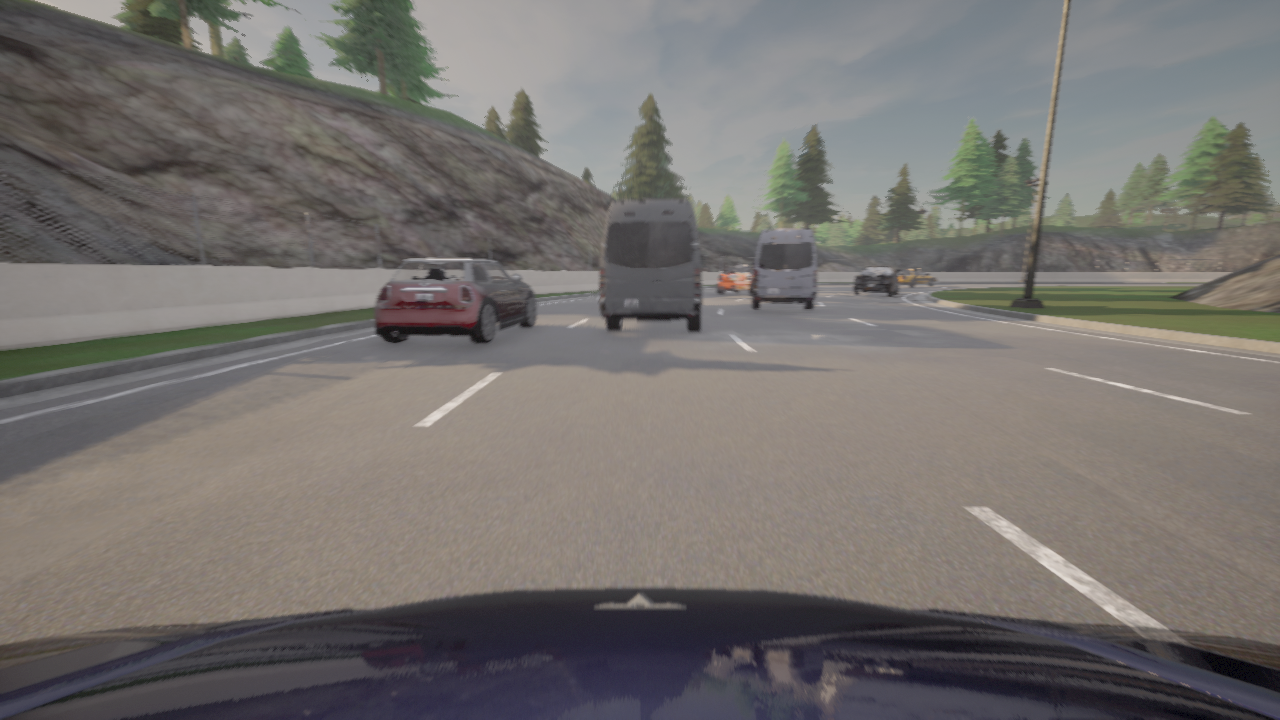cyclist: (0, 588, 1279, 719), (599, 199, 705, 331), (374, 258, 535, 344), (750, 229, 816, 310), (854, 266, 899, 296), (717, 265, 752, 294), (895, 270, 935, 283)
